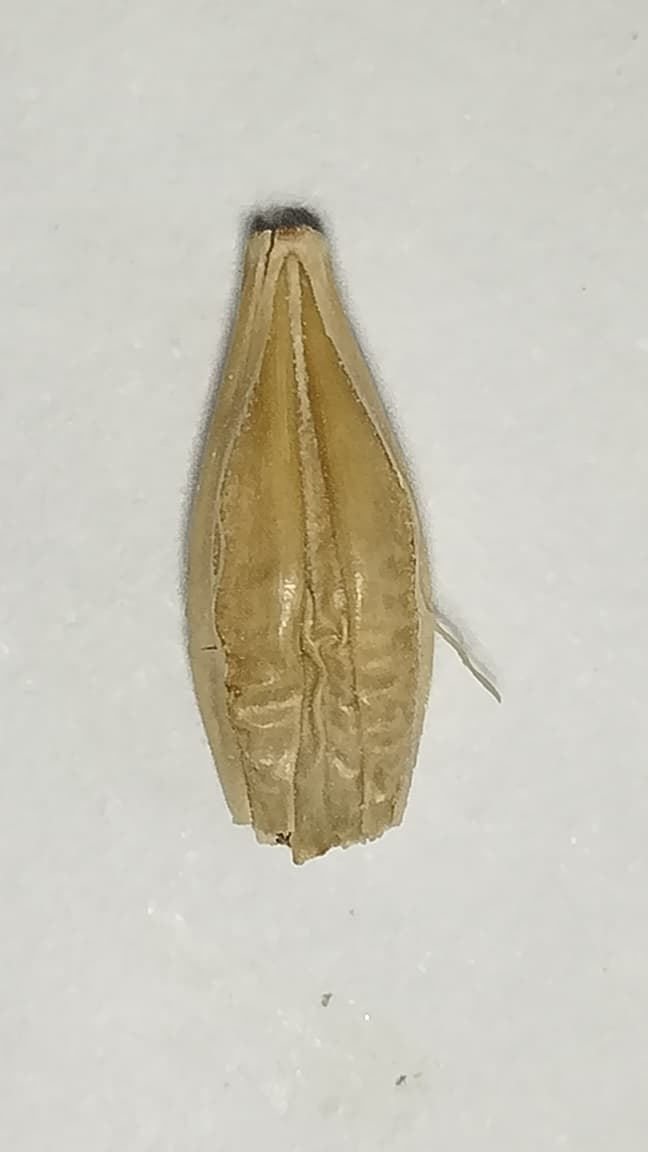healthy-70-60: (190, 228, 433, 863)
